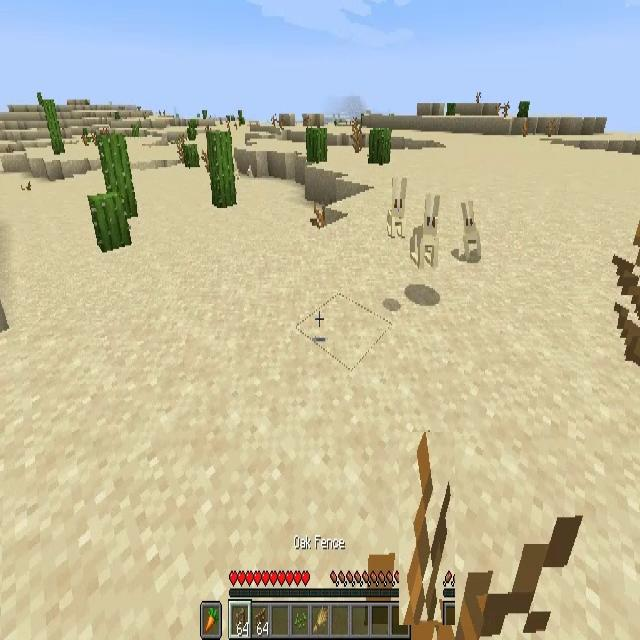rabbit: (399, 432, 455, 625), (410, 194, 441, 270), (459, 199, 481, 261), (388, 178, 408, 236)
